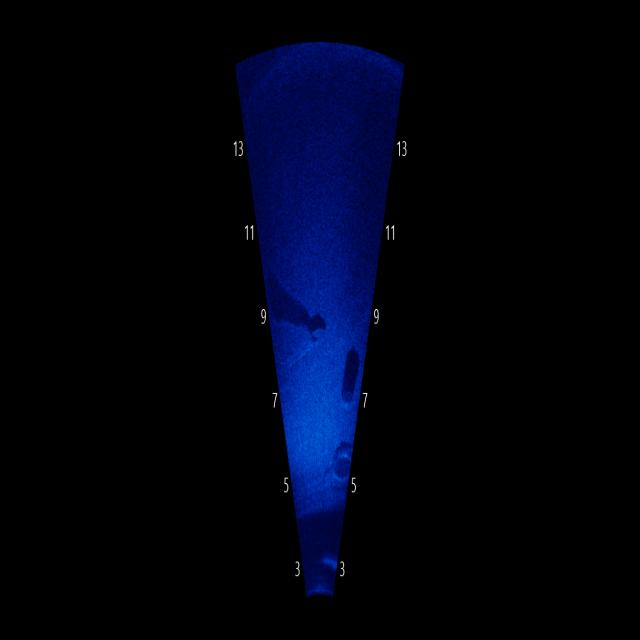circle: (329, 447, 357, 493), (336, 375, 359, 421)
triangle: (268, 295, 322, 387)
